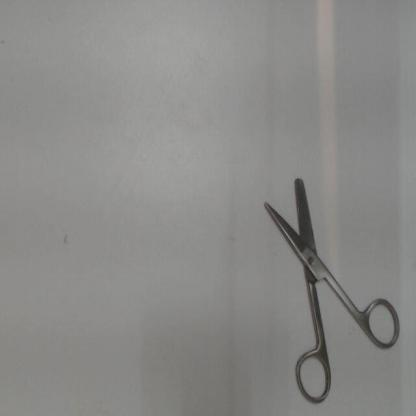Dressing Scissors: (252, 168, 406, 410)
